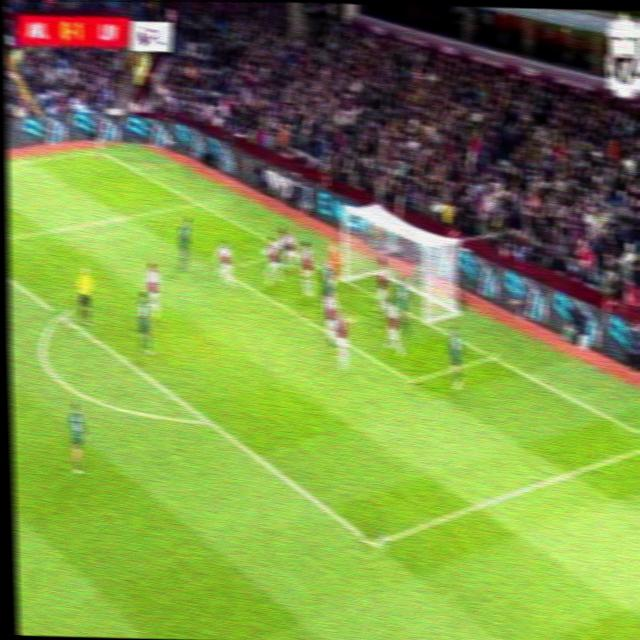bigarea_bottom_inner: (360, 526, 388, 562)
bigarea_top_outter: (193, 195, 204, 211)
bottom_arc_area_intersection: (197, 410, 220, 437)
corner: (92, 148, 106, 158)
smallarea_bottom_inner: (403, 368, 422, 395)
smallarea_bottom_outter: (485, 348, 499, 366)
smallarea_top_inner: (216, 264, 224, 276)
top_arc_area_intersection: (50, 306, 73, 329)
